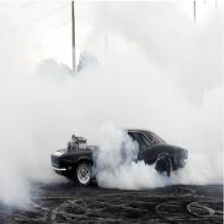smoke: (2, 4, 209, 130), (102, 136, 138, 185)
